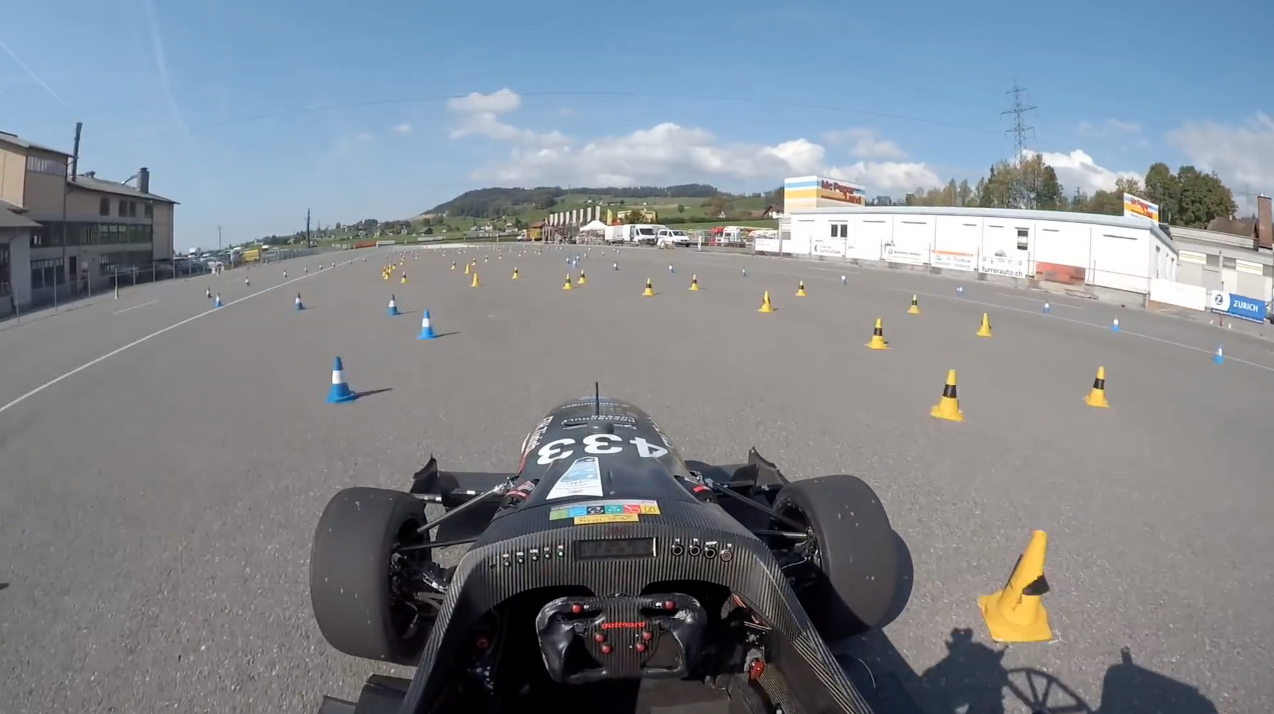lcone: (321, 353, 361, 409), (413, 307, 441, 341), (384, 291, 406, 319)
rcone: (969, 525, 1070, 645), (925, 367, 971, 425), (1078, 360, 1114, 411), (864, 315, 892, 350), (755, 287, 778, 315), (973, 311, 995, 339)
